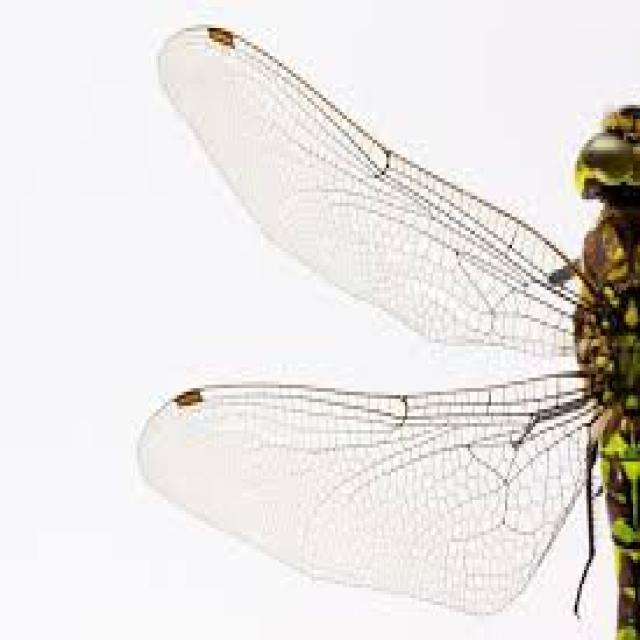dragonfly: (142, 24, 638, 637)
